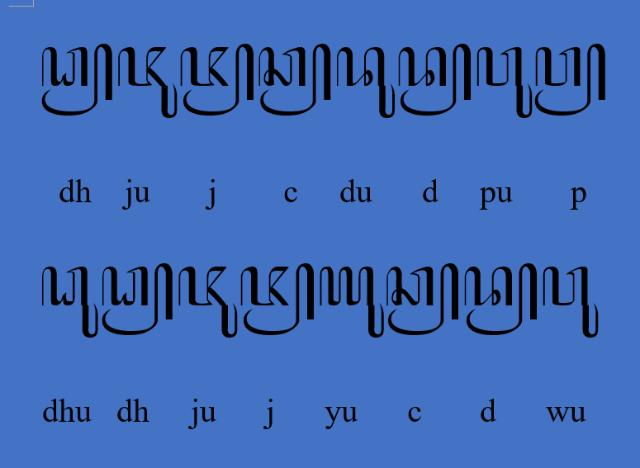-c: (258, 42, 332, 118), (388, 262, 460, 338)
-d: (398, 43, 472, 117), (464, 263, 538, 337)
-dh: (100, 263, 173, 337), (41, 42, 113, 116)
-j: (240, 263, 316, 337), (180, 42, 253, 118)
-p: (535, 42, 607, 118)
dhu: (40, 266, 100, 339)
du: (336, 46, 396, 121)
ju: (118, 46, 178, 121), (178, 266, 238, 339)
pu: (475, 46, 533, 120)
wu: (542, 265, 600, 339)
yu: (318, 265, 386, 339)
